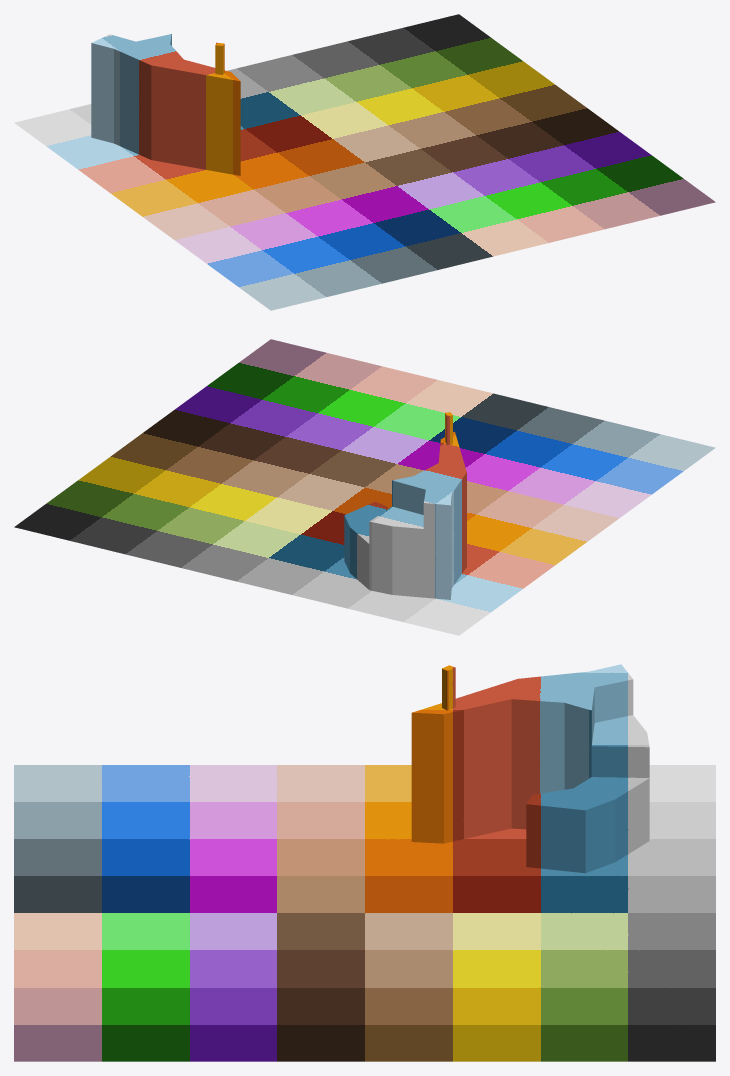
3 renders of one model, top to bottom at view 1: azimuth 30°, elevation 25°; view 2: azimuth 150°, elevation 25°; view 3: azimuth 270°, elevation 25°, orthographic. The views are drawn at different scales.
Visible parts, largest first — view 1: Plane; view 2: Plane; view 3: Plane.
Part boxes in pixels (x1,y1,x2,y2): Plane: [14, 14, 715, 310]; Plane: [14, 339, 715, 635]; Plane: [14, 664, 715, 1061].
Size of the model in its own units: 40 by 10.62 by 40.
1 material, 1 textured.
